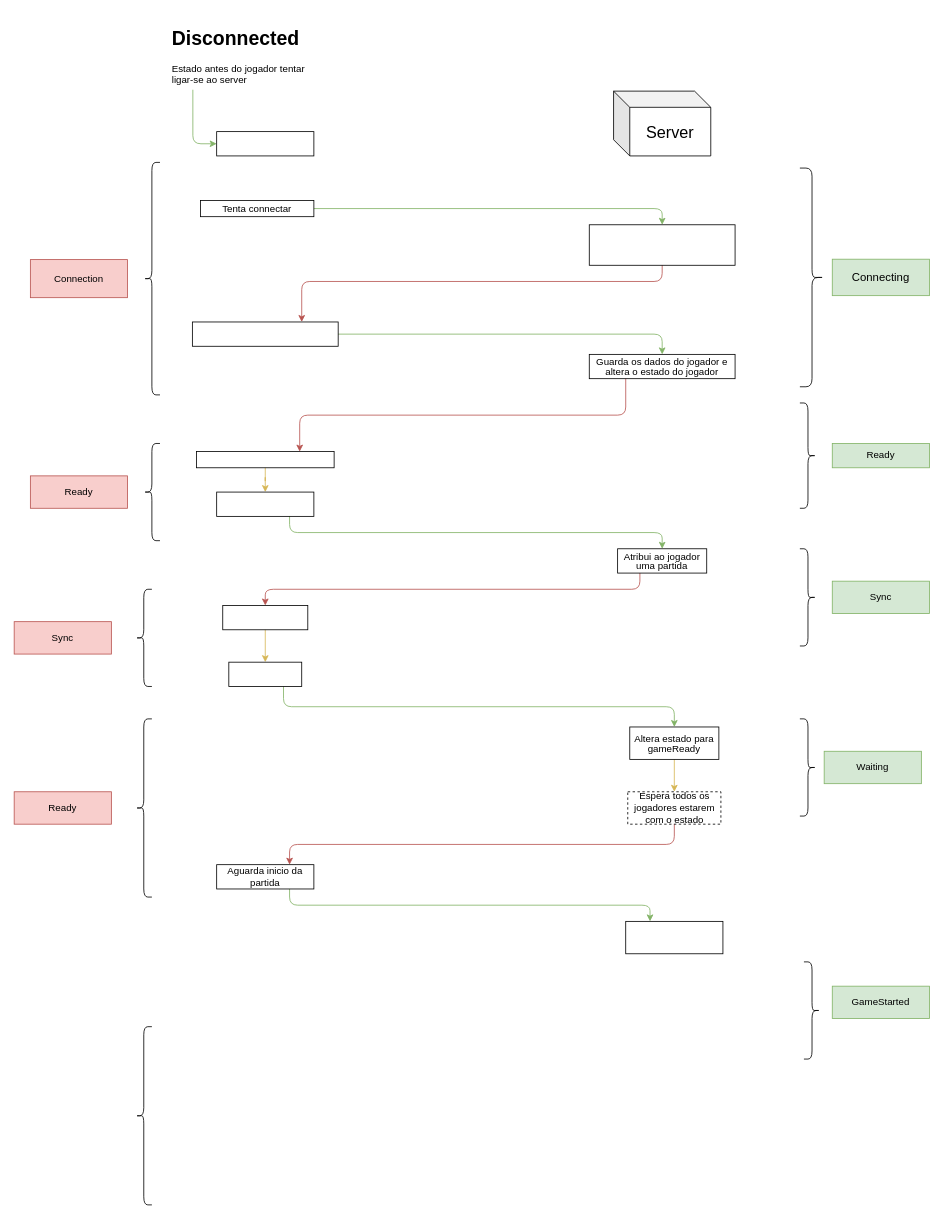
The diagram is 944 pixels wide and 1219 high, and some of its shapes have lost their labels. The shapes that lost their labels are listed below. From the top down, each one's centre as x and y in pixels, then its label:
At point 265,143: "Player".
At point 661,244: "Aceita connecçao e envia ID de Jogador".
At point 265,333: "Atribui ID e guarda danos do user".
At point 265,459: "Altera o estado para Ready".
At point 265,503: "Espera por uma partida disponivel".
At point 265,617: "Guarda dados do outro jogador".
At point 265,673: "Confirma que está sync".
At point 674,937: "Todos os jogadores estão prontos".
